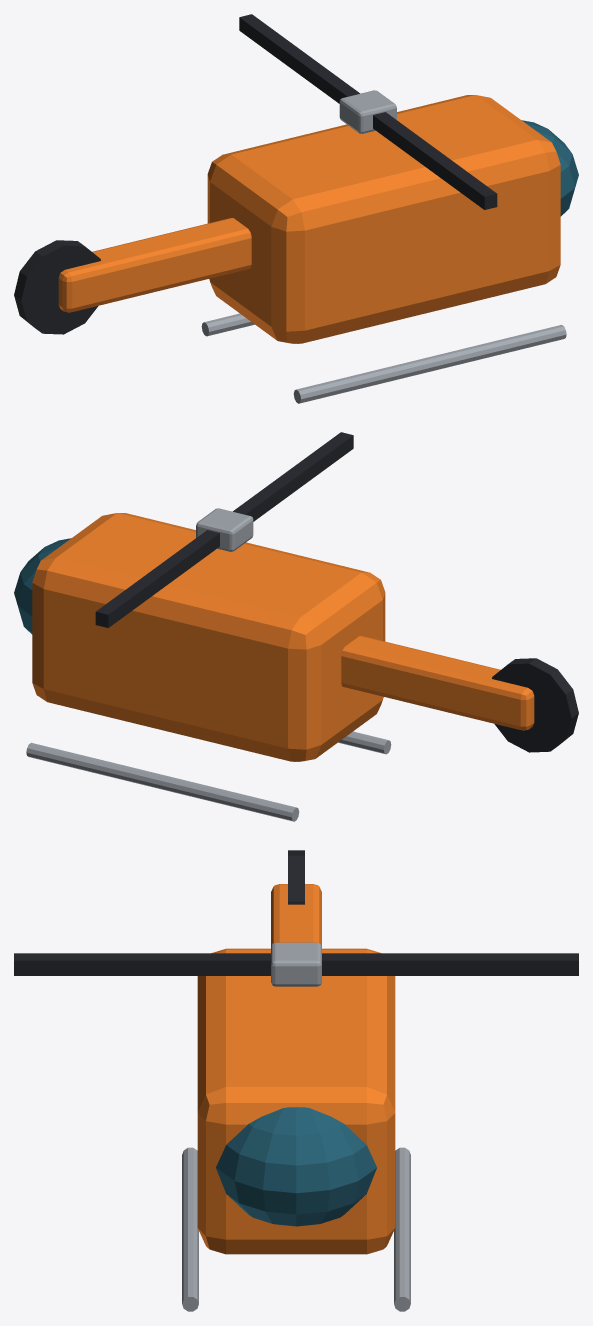
File: helicopter.glb
3 renders of one model, top to bottom at view 1: azimuth 30°, elevation 25°; view 2: azimuth 150°, elevation 25°; view 3: azimuth 270°, elevation 25°, orthographic. The views are drawn at different scales.
Visible parts, largest first — view 1: HeliBody, TailBoom, MainRotor, TailRotor, SkidL, RotorHub, Cockpit, SkidR; view 2: HeliBody, TailBoom, MainRotor, TailRotor, SkidR, RotorHub, Cockpit, SkidL; view 3: HeliBody, Cockpit, MainRotor, SkidL, SkidR, TailBoom, RotorHub, TailRotor.
Part boxes in pixels (x1,y1,x2,y2): HeliBody: [207, 95, 560, 343]; TailBoom: [58, 218, 251, 312]; MainRotor: [239, 14, 497, 209]; TailRotor: [14, 240, 100, 334]; SkidL: [293, 324, 566, 403]; RotorHub: [339, 90, 396, 133]; Cockpit: [521, 120, 578, 216]; SkidR: [201, 313, 254, 336]; HeliBody: [32, 513, 385, 761]; TailBoom: [341, 636, 534, 730]; MainRotor: [95, 432, 353, 627]; TailRotor: [492, 658, 578, 752]; SkidR: [26, 742, 299, 821]; RotorHub: [196, 508, 253, 551]; Cockpit: [14, 538, 71, 634]; SkidL: [338, 731, 391, 754]; HeliBody: [197, 948, 395, 1254]; Cockpit: [216, 1107, 376, 1226]; MainRotor: [14, 953, 578, 975]; SkidL: [182, 1147, 198, 1311]; SkidR: [394, 1147, 410, 1311]; TailBoom: [271, 884, 321, 946]; RotorHub: [271, 942, 321, 986]; TailRotor: [288, 850, 304, 904].
Size of the model in its own units: 5.2 by 2.16 by 4.
